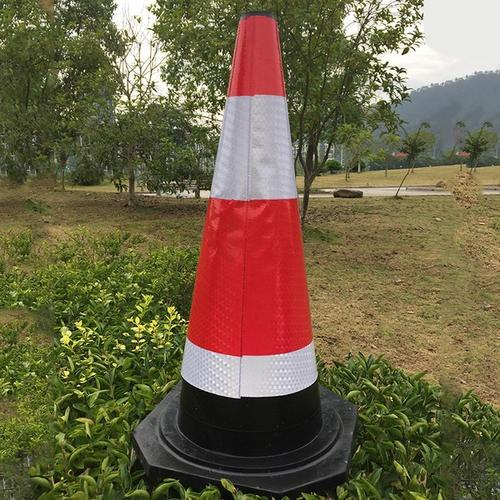cone_barrel: (148, 20, 338, 463)
